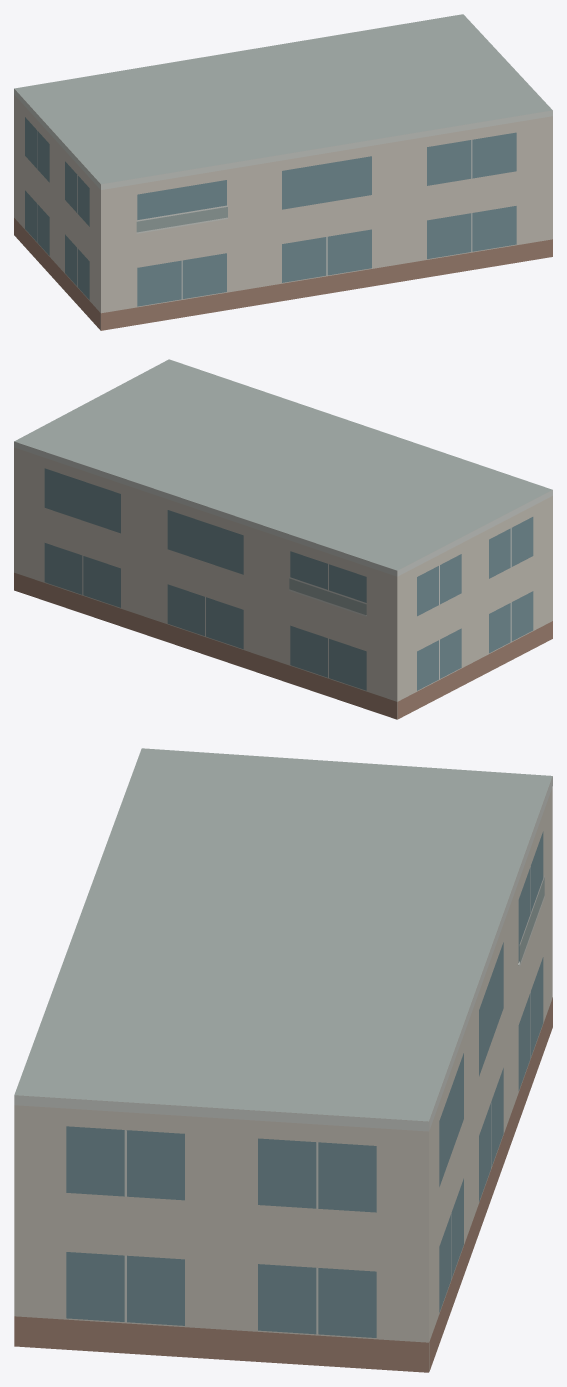
File: survey-upis-32774558.glb
The picture shows the model from 3 angles, top to bottom: view 1: azimuth 30°, elevation 25°; view 2: azimuth 150°, elevation 25°; view 3: azimuth 270°, elevation 25°; orthographic projection. The views are drawn at different scales.
Parts seen in each view (by area): view 1: survey-upis-32774558.tmp; view 2: survey-upis-32774558.tmp; view 3: survey-upis-32774558.tmp.
Boxes of the visible parts, box(x1,y1,x2,y2) form: survey-upis-32774558.tmp: box(14, 14, 552, 330); survey-upis-32774558.tmp: box(14, 359, 552, 719); survey-upis-32774558.tmp: box(14, 748, 552, 1372).
Bounding box in the file's own units: 19.45 × 6.1 × 11.86.
